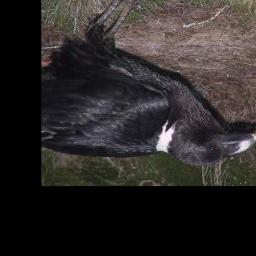Crow: (42, 0, 256, 167)
